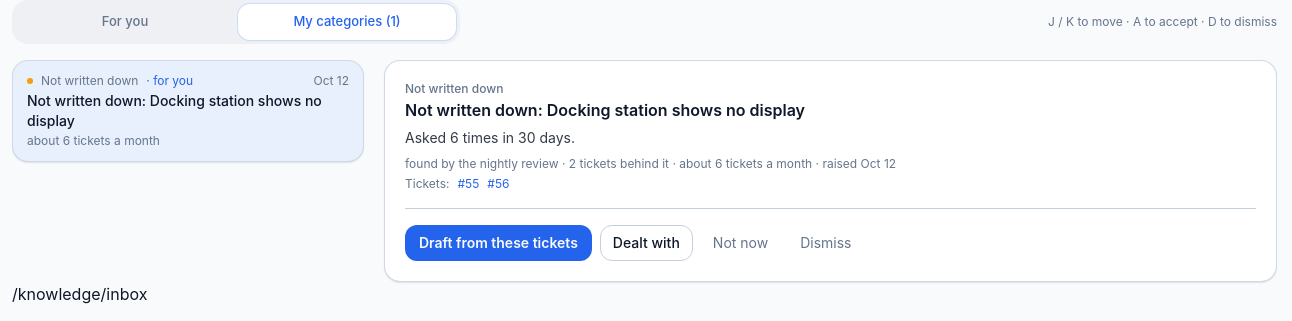
it: the review's items in the Inbox › "not written down": one click drafts from the tickets behind it and opens the draft
This screenshot has width=1292, height=321.
Click the button with test id "inbox-draft": (498, 243) x1=405 y1=225 x2=592 y2=261
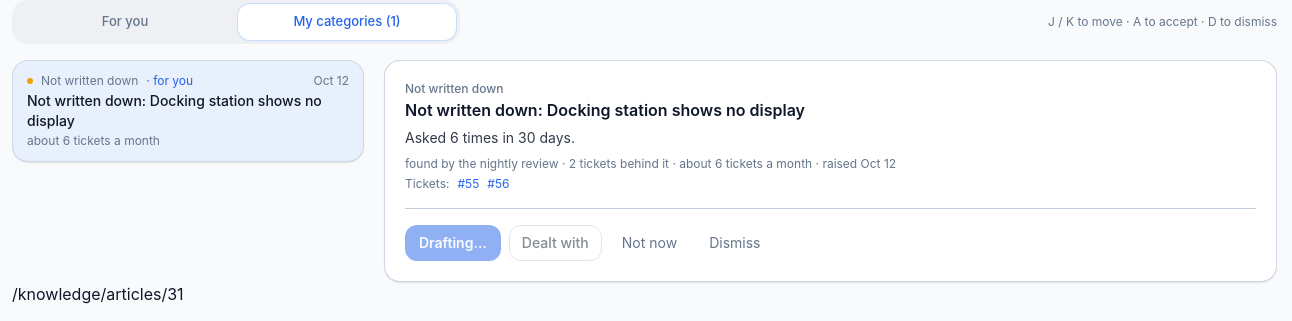
expect the text with test id "where" reads "/knowledge/articles/31": met, box x1=12 y1=284 x2=184 y2=304
